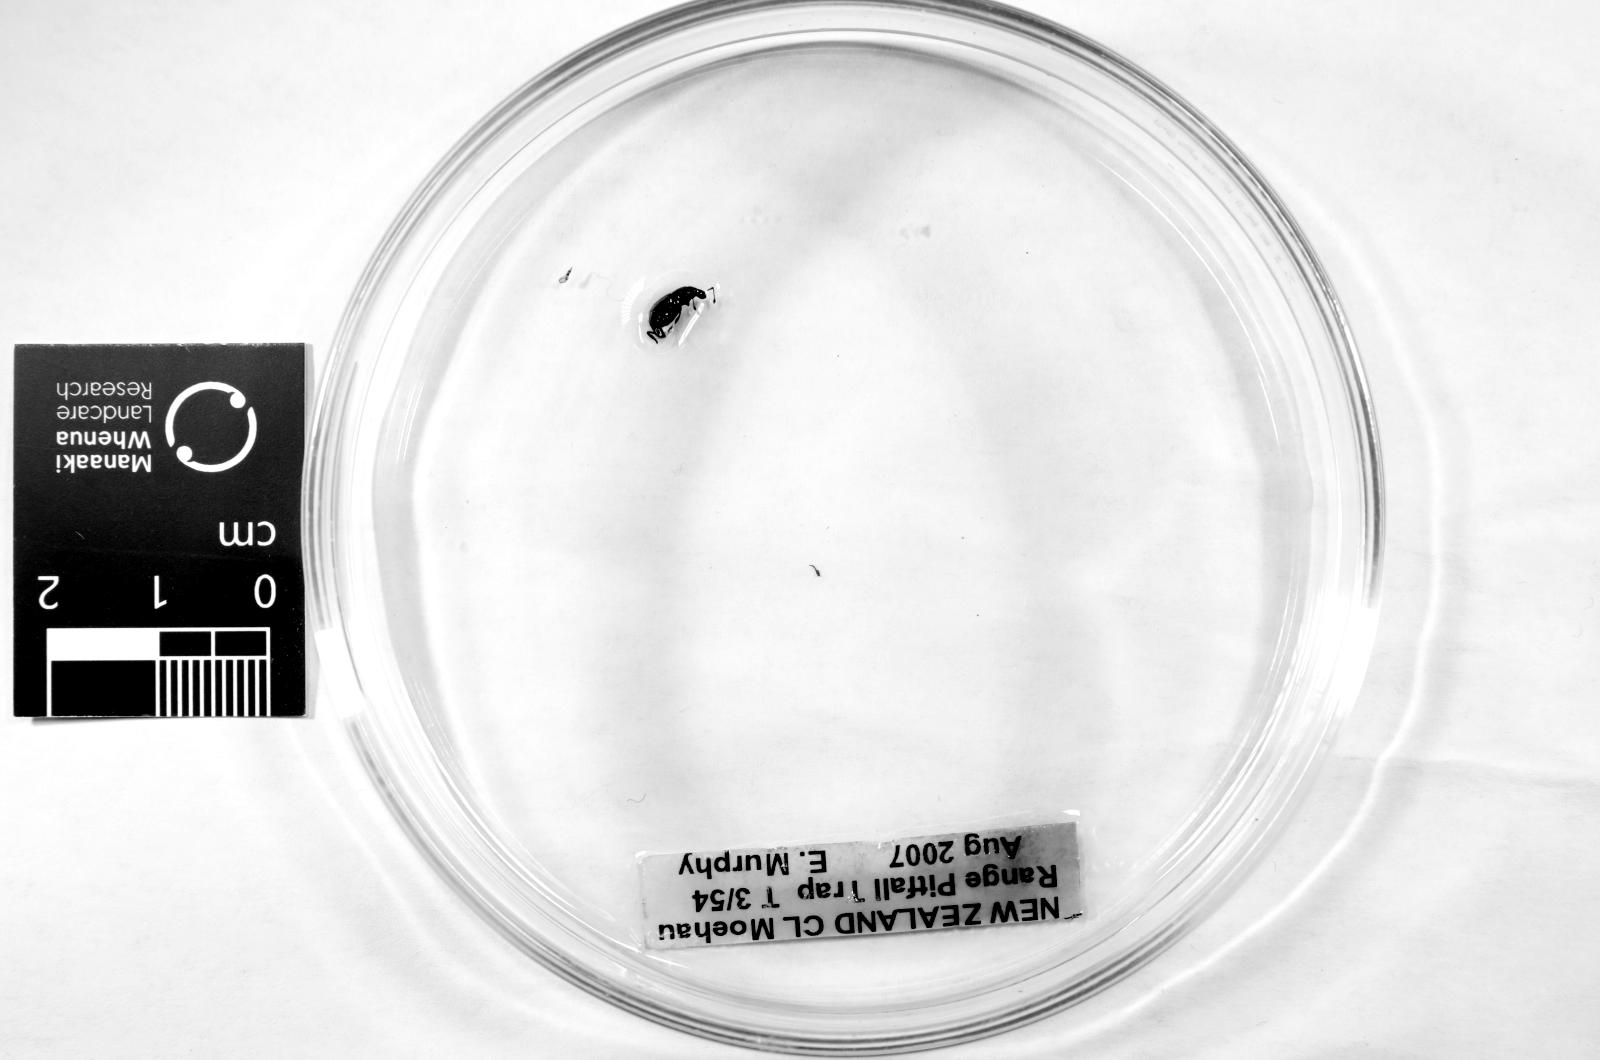coleoptera: (646, 286, 710, 343)
